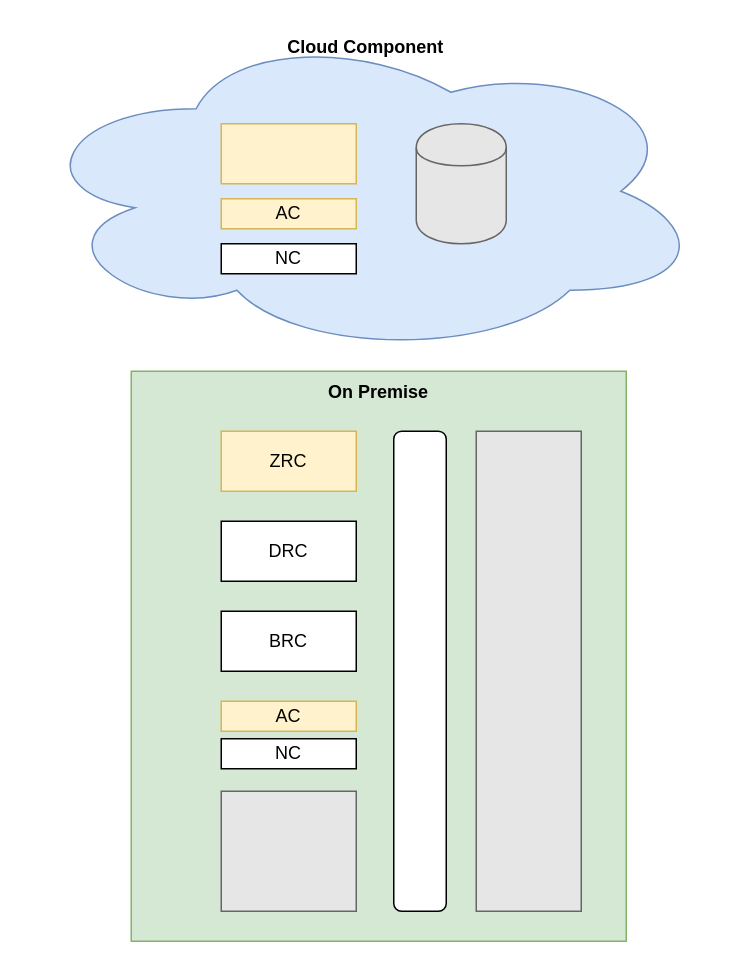
This 732x968 diagram has some shape labels left out. The shapes that lost their labels are listed below. From the top down, each one's centre as x and y in pixels, then its label:
the point at 288,153: ZTC
the point at 460,183: ZTC DB
the point at 419,670: ZGW Converter
the point at 528,670: JOIN SDK
the point at 288,850: REST API
